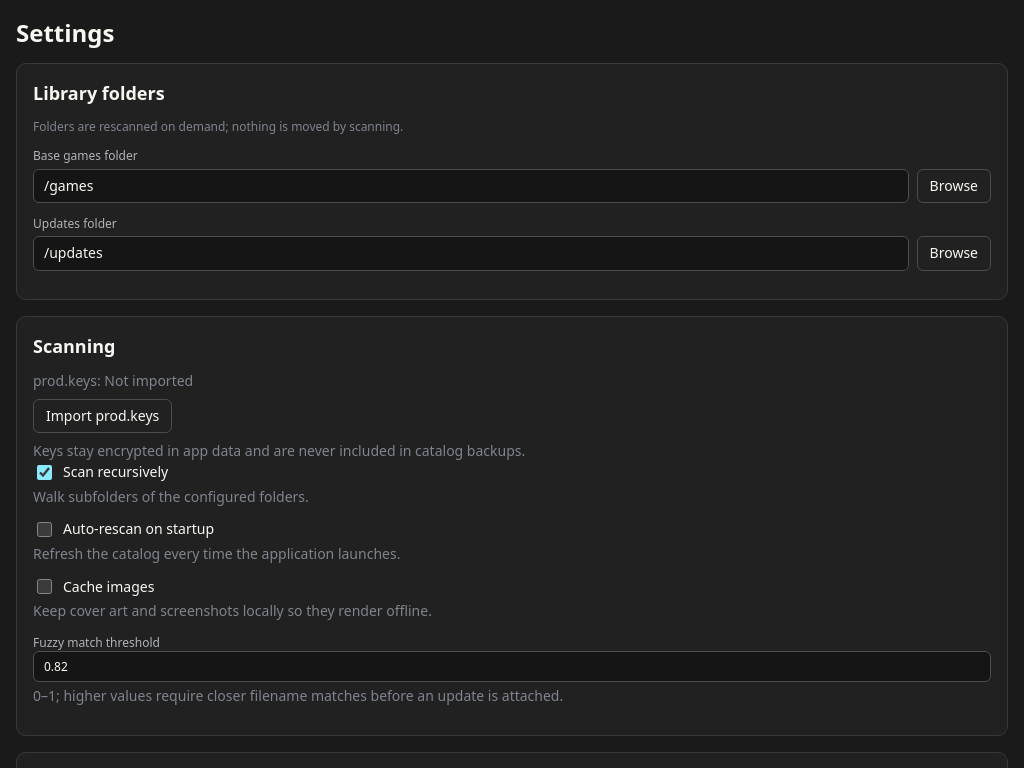
Scenario: SettingsPage › stores the path returned by the folder chooser
Click the 1st button "Browse".
click(954, 186)  # box [917,169,991,203]
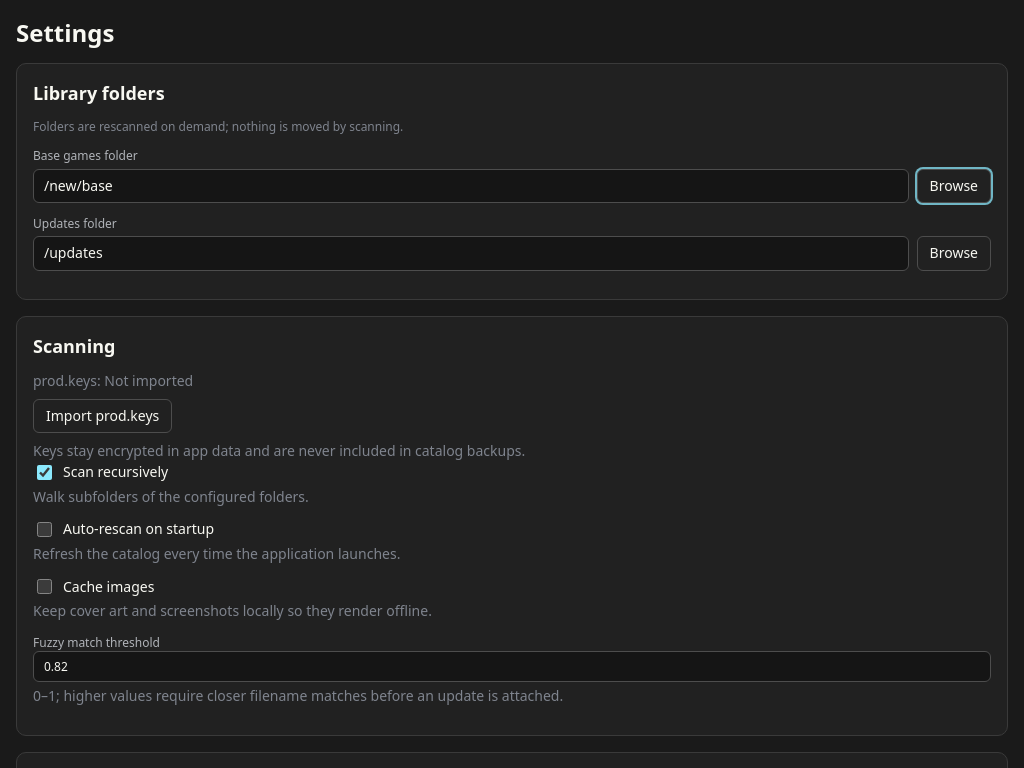
Now the field labelled "Base games folder" holds "/new/base", box [33,169,909,203]
